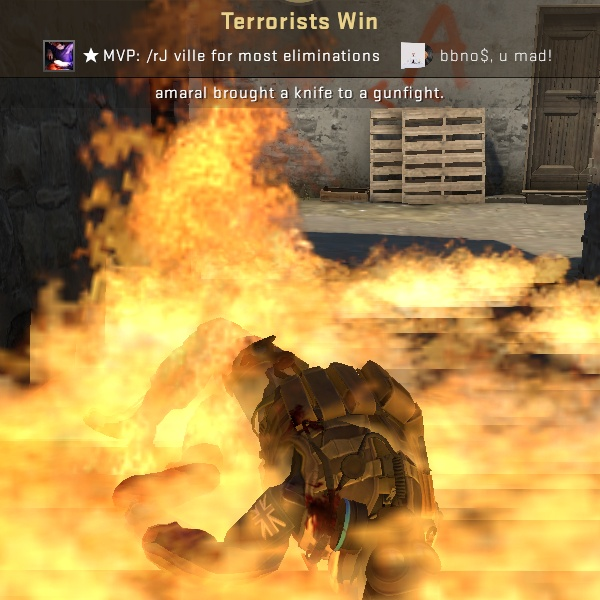t_body: (0, 0, 573, 600)
